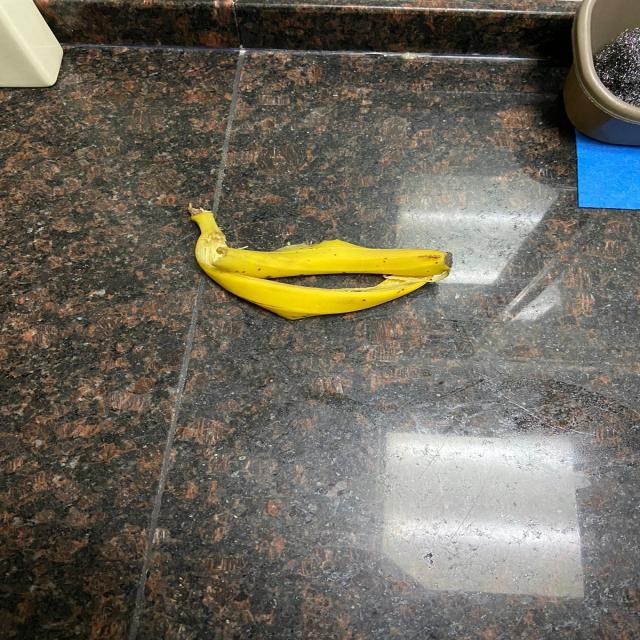banana: (176, 208, 462, 326)
